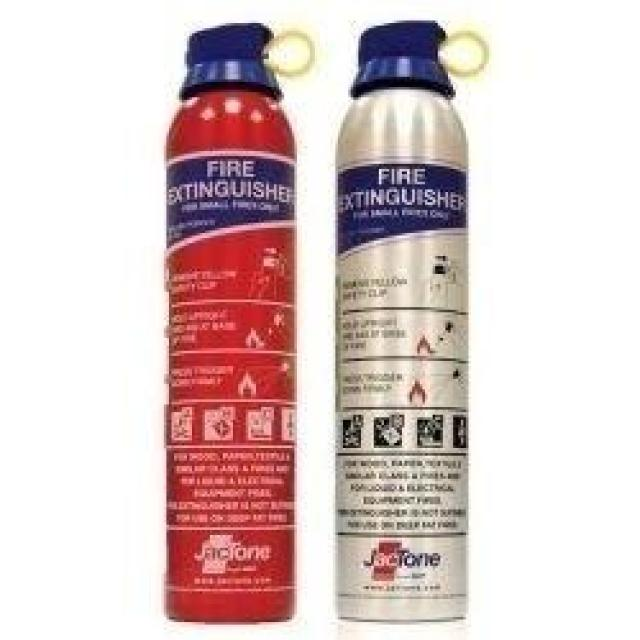fire_extinguisher: (321, 15, 488, 628), (154, 17, 318, 626)
